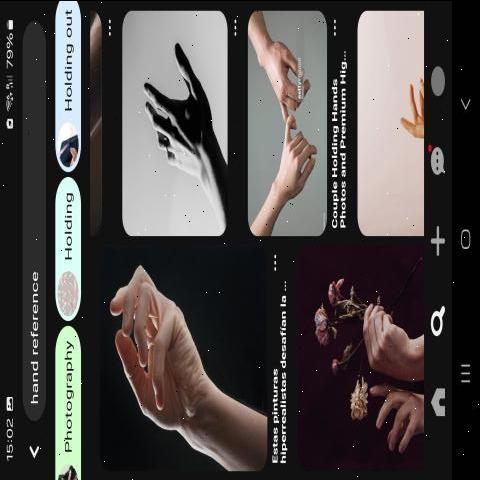Hands: (93, 256, 239, 452), (128, 30, 217, 180), (255, 18, 311, 132), (268, 110, 324, 214)
